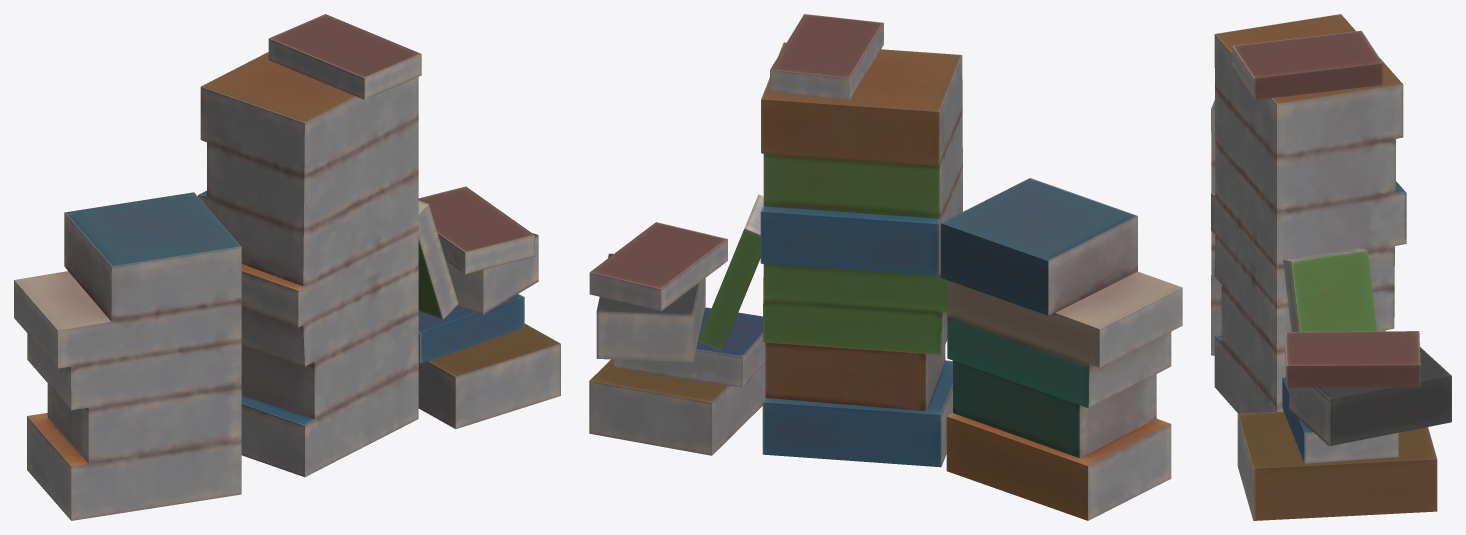
File: Pfb_Indoors_Books__3.fbx
3 renders of one model, left to right at view 1: azimuth 30°, elevation 25°; view 2: azimuth 150°, elevation 25°; view 3: azimuth 270°, elevation 25°, orthographic.
Parts seen in each view (by area): view 1: Mat_Indoors_Books_01_2; view 2: Mat_Indoors_Books_01_2; view 3: Mat_Indoors_Books_01_2.
Part boxes in pixels (x1,y1,x2,y2): Mat_Indoors_Books_01_2: [14, 14, 560, 520]; Mat_Indoors_Books_01_2: [589, 14, 1182, 520]; Mat_Indoors_Books_01_2: [1211, 14, 1451, 520].
Bounding box in the file's own units: 1.49 × 1.02 × 0.5964.
Materials: 1 (1 with a texture image).
